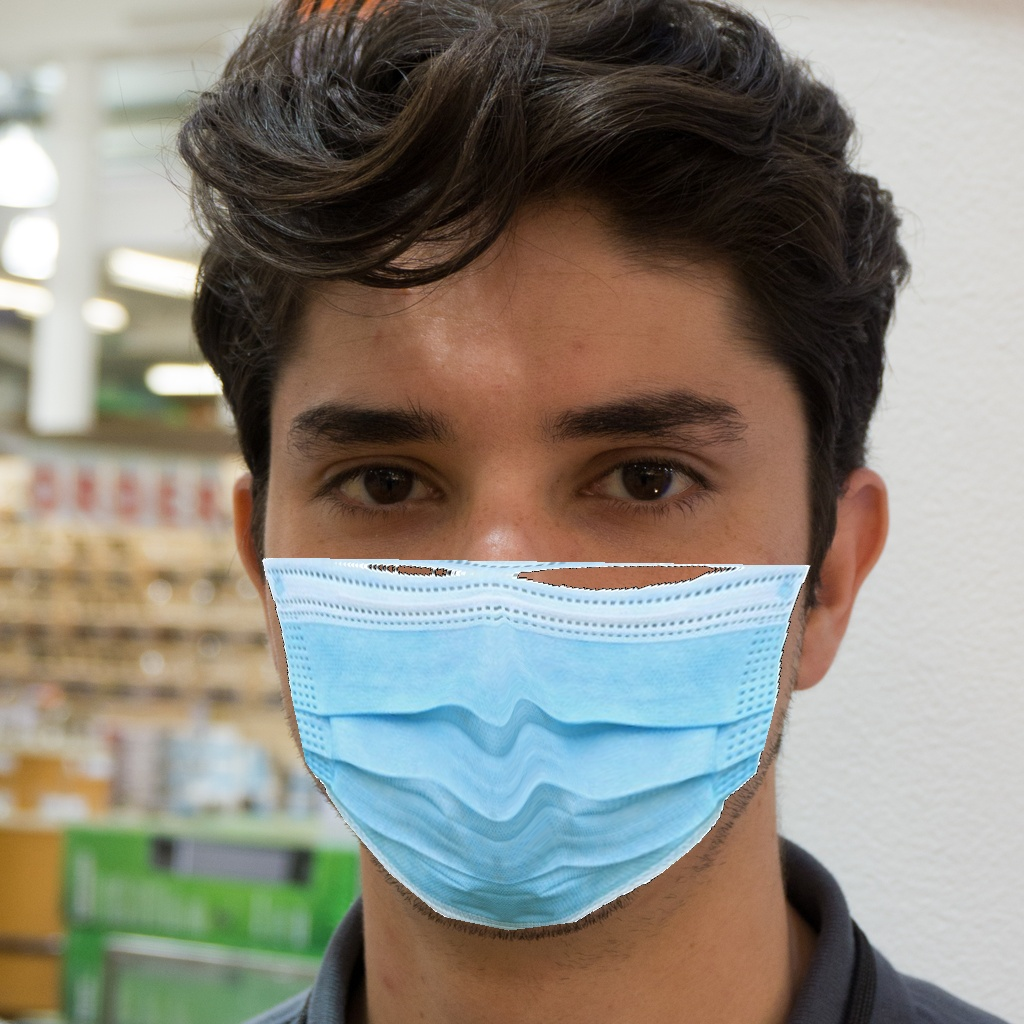Mask: (260, 344, 810, 940)
